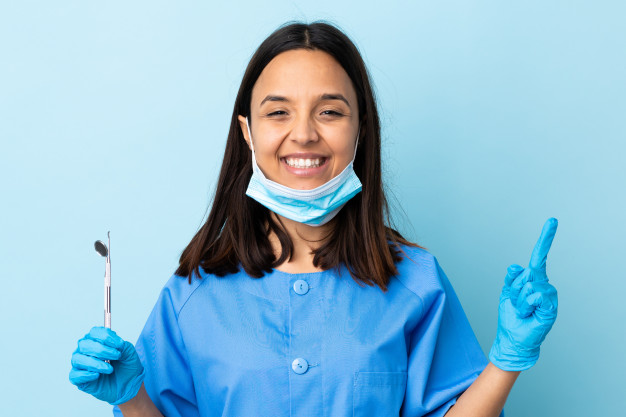mask_weared_incorrect: (238, 60, 363, 230)
